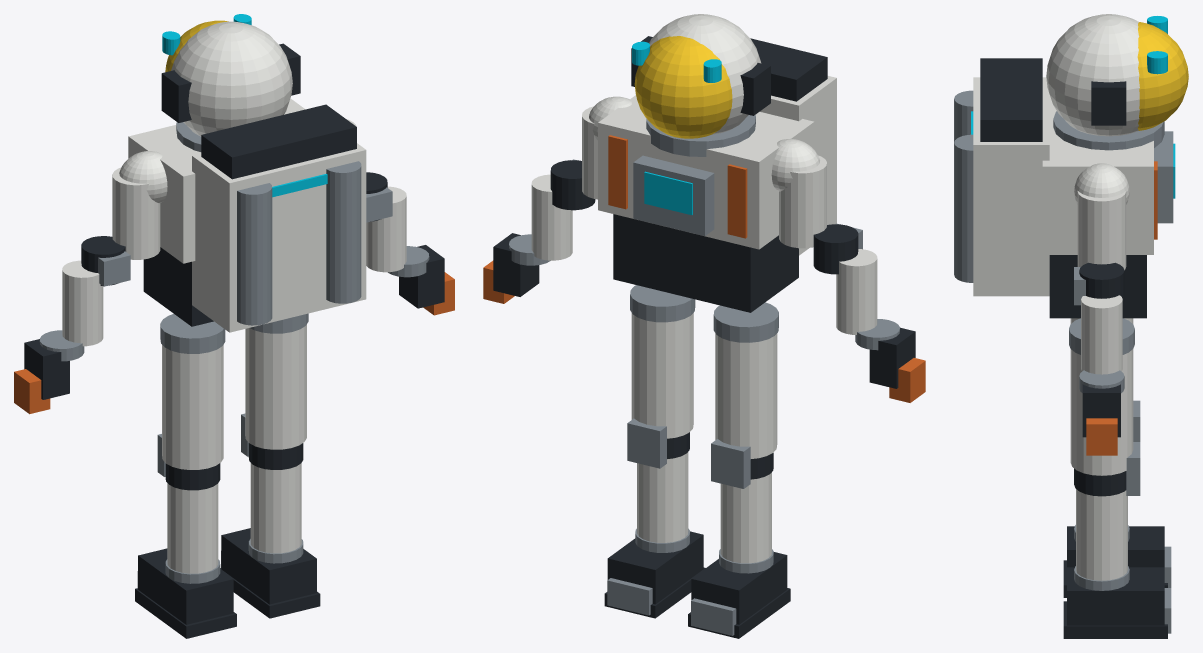
File: ARES_EVA_MK1_LOD0.obj
3 views of the same model, side by side, from view 1: azimuth 30°, elevation 25°; view 2: azimuth 150°, elevation 25°; view 3: azimuth 270°, elevation 25° (orthographic).
Parts seen in each view (by area): view 1: ARES_EVA_MK1_Body; view 2: ARES_EVA_MK1_Body; view 3: ARES_EVA_MK1_Body.
Boxes of the visible parts, bbox=[...] form: ARES_EVA_MK1_Body: bbox=[14, 14, 454, 638]; ARES_EVA_MK1_Body: bbox=[483, 14, 925, 638]; ARES_EVA_MK1_Body: bbox=[954, 14, 1188, 638].
Size of the model in its own units: 1.43 by 1.86 by 0.675.
